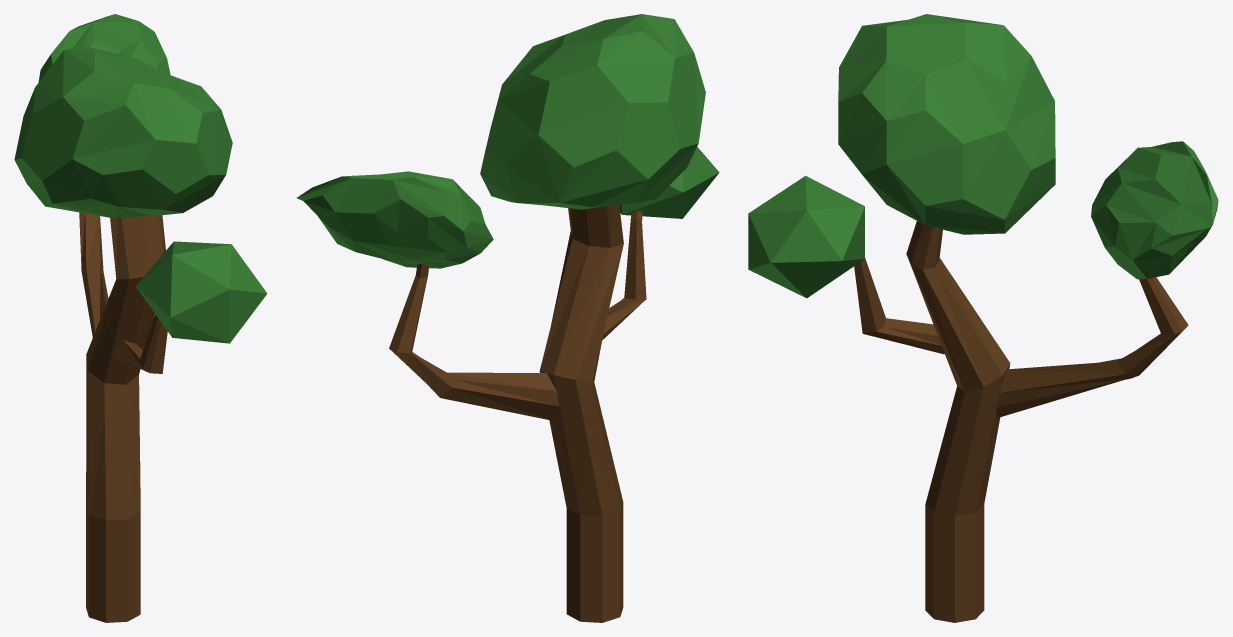
Rendered from Tree boi.fbx.
3 views of the same model, side by side, from view 1: azimuth 30°, elevation 25°; view 2: azimuth 150°, elevation 25°; view 3: azimuth 270°, elevation 25° (orthographic). The views are drawn at different scales.
Parts seen in each view (by area): view 1: Platonic_1, Cylinder, Platonic_2, Platonic, Cylinder_1; view 2: Platonic_1, Cylinder, Platonic, Platonic_2, Cylinder_1; view 3: Platonic_1, Cylinder, Platonic, Platonic_2, Cylinder_1.
Boxes of the visible parts, x1,y1,x2,y2 form: Platonic_1: (14,46,232,218); Cylinder: (79,212,165,622); Platonic_2: (136,241,267,343); Platonic: (38,14,170,82); Cylinder_1: (114,314,167,373); Platonic_1: (480,14,705,209); Cylinder: (389,204,623,622); Platonic: (296,171,493,268); Platonic_2: (619,147,719,218); Cylinder_1: (602,210,646,340); Platonic_1: (838,14,1055,234); Cylinder: (906,221,1188,622); Platonic: (1091,141,1218,279); Platonic_2: (748,175,864,298); Cylinder_1: (854,258,944,354).
Bounding box in the file's own units: 514 × 1090 × 799.
